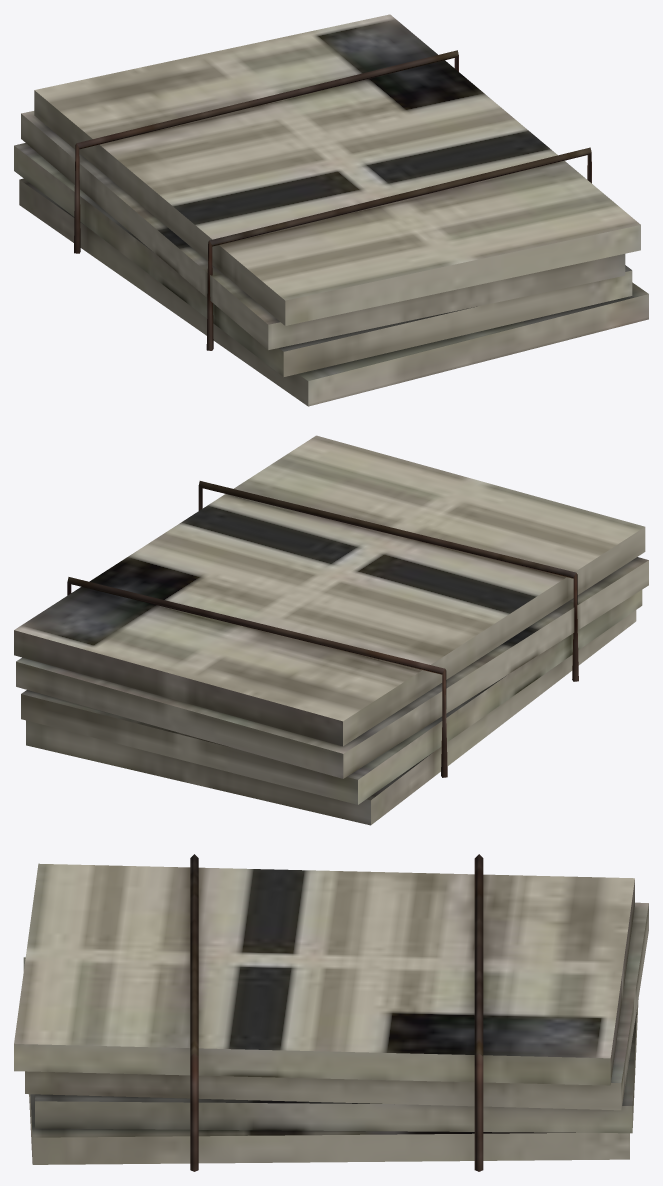
File: newspaper_bundle_lod1_web.glb
The picture shows the model from 3 angles, top to bottom: view 1: azimuth 30°, elevation 25°; view 2: azimuth 150°, elevation 25°; view 3: azimuth 270°, elevation 25°; orthographic projection. The views are drawn at different scales.
Visible parts, largest first — view 1: NewspaperBundle_Body; view 2: NewspaperBundle_Body; view 3: NewspaperBundle_Body.
Boxes of the visible parts, x1,y1,x2,y2 form: NewspaperBundle_Body: [14, 14, 648, 406]; NewspaperBundle_Body: [14, 435, 648, 825]; NewspaperBundle_Body: [14, 854, 648, 1171].
Size of the model in its own units: 0.3401 by 0.0934 by 0.4462.
Materials: 1 (1 with a texture image).
